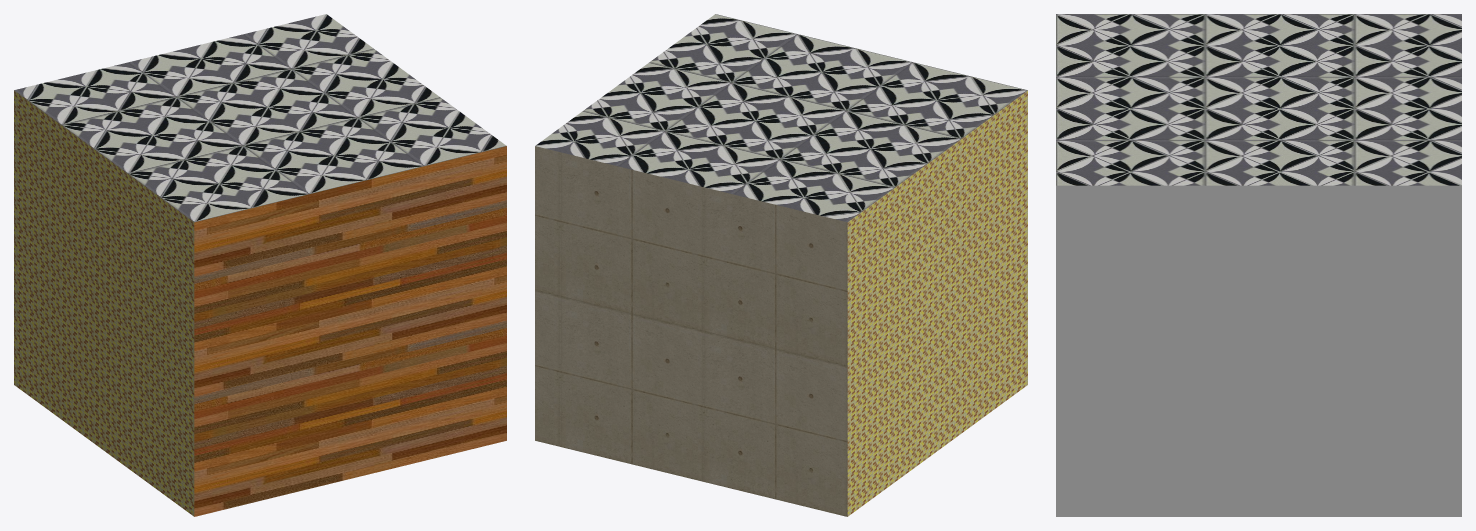
Rendered from CUBO.glb.
3 views of the same model, side by side, from view 1: azimuth 30°, elevation 25°; view 2: azimuth 150°, elevation 25°; view 3: azimuth 270°, elevation 25° (orthographic). The views are drawn at different scales.
Visible parts, largest first — view 1: ID52, ID22, ID67; view 2: ID82, ID22, ID67; view 3: ID37, ID22.
Boxes of the visible parts, x1,y1,x2,y2 form: ID52: [194, 146, 506, 516]; ID22: [14, 14, 506, 222]; ID67: [14, 90, 194, 516]; ID82: [535, 146, 847, 516]; ID22: [535, 14, 1027, 222]; ID67: [847, 90, 1027, 516]; ID37: [1056, 185, 1461, 516]; ID22: [1056, 14, 1461, 185].
Size of the model in its own units: 3.31 by 2.99 by 3.31.
